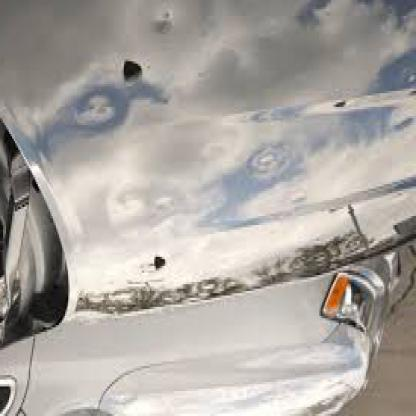dent: (237, 130, 314, 202), (70, 74, 125, 136), (120, 49, 148, 99), (144, 237, 165, 294), (148, 3, 180, 40), (316, 8, 340, 22), (330, 98, 351, 112), (323, 203, 343, 215)
